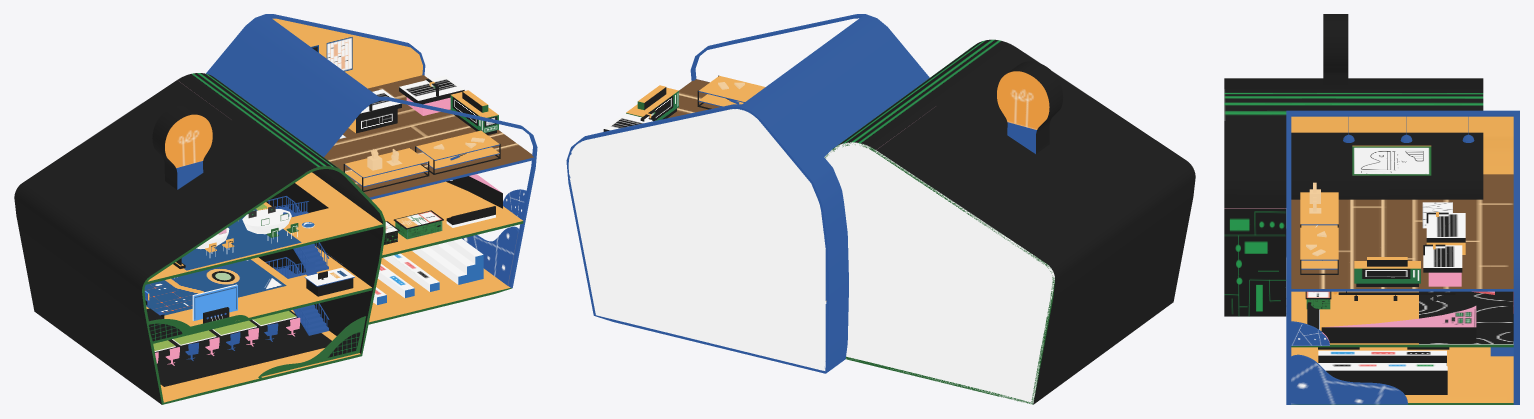
Rendered from 创新空间 .fbx.
3 renders of one model, left to right at view 1: azimuth 30°, elevation 25°; view 2: azimuth 150°, elevation 25°; view 3: azimuth 270°, elevation 25°, orthographic. The views are drawn at different scales.
Visible parts, largest first — view 1: 左, 右, 地毯_2, 平面, 房顶大灯泡, 地毯, 桌子_1_2, 立方体_4, 桌子_2_2, 挤压_1_4, 电视_1, 右侧机械 (+16 smaller); view 2: 左, 右, 房顶大灯泡, 桌子_1_2, 右侧机械; view 3: 右, 左, 右侧操作台, 挤压_1_4, 平面_1_2, 立方体_4, 黑板, 右侧机械, 房顶大灯泡, 立方体_3_2, 桌子_1_2, 立方体_2 (+8 smaller).
Part boxes in pixels (x1,y1,x2,y2): 左: (14, 73, 385, 404); 右: (206, 14, 537, 324); 地毯_2: (154, 310, 331, 386); 平面: (144, 259, 286, 315); 房顶大灯泡: (152, 105, 212, 189); 地毯: (181, 209, 301, 270); 桌子_1_2: (415, 130, 500, 174); 立方体_4: (412, 238, 483, 284); 桌子_2_2: (343, 147, 429, 191); 挤压_1_4: (462, 226, 519, 285); 电视_1: (192, 284, 237, 323); 右侧机械: (450, 90, 498, 135); 左: (824, 39, 1195, 404); 右: (566, 14, 929, 373); 房顶大灯泡: (997, 61, 1062, 153); 桌子_1_2: (697, 75, 765, 109); 右侧机械: (626, 85, 678, 120); 右: (1286, 110, 1519, 404); 左: (1224, 78, 1483, 316); 右侧操作台: (1321, 306, 1476, 343); 挤压_1_4: (1291, 354, 1407, 404); 平面_1_2: (1419, 291, 1513, 344); 立方体_4: (1321, 366, 1447, 394); 黑板: (1352, 145, 1431, 175); 右侧机械: (1354, 257, 1420, 286); 房顶大灯泡: (1323, 14, 1348, 85); 立方体_3_2: (1318, 350, 1446, 362); 桌子_1_2: (1300, 227, 1338, 274); 立方体_2: (1426, 212, 1465, 242).
Size of the model in its own units: 2563 by 1354 by 1521.
